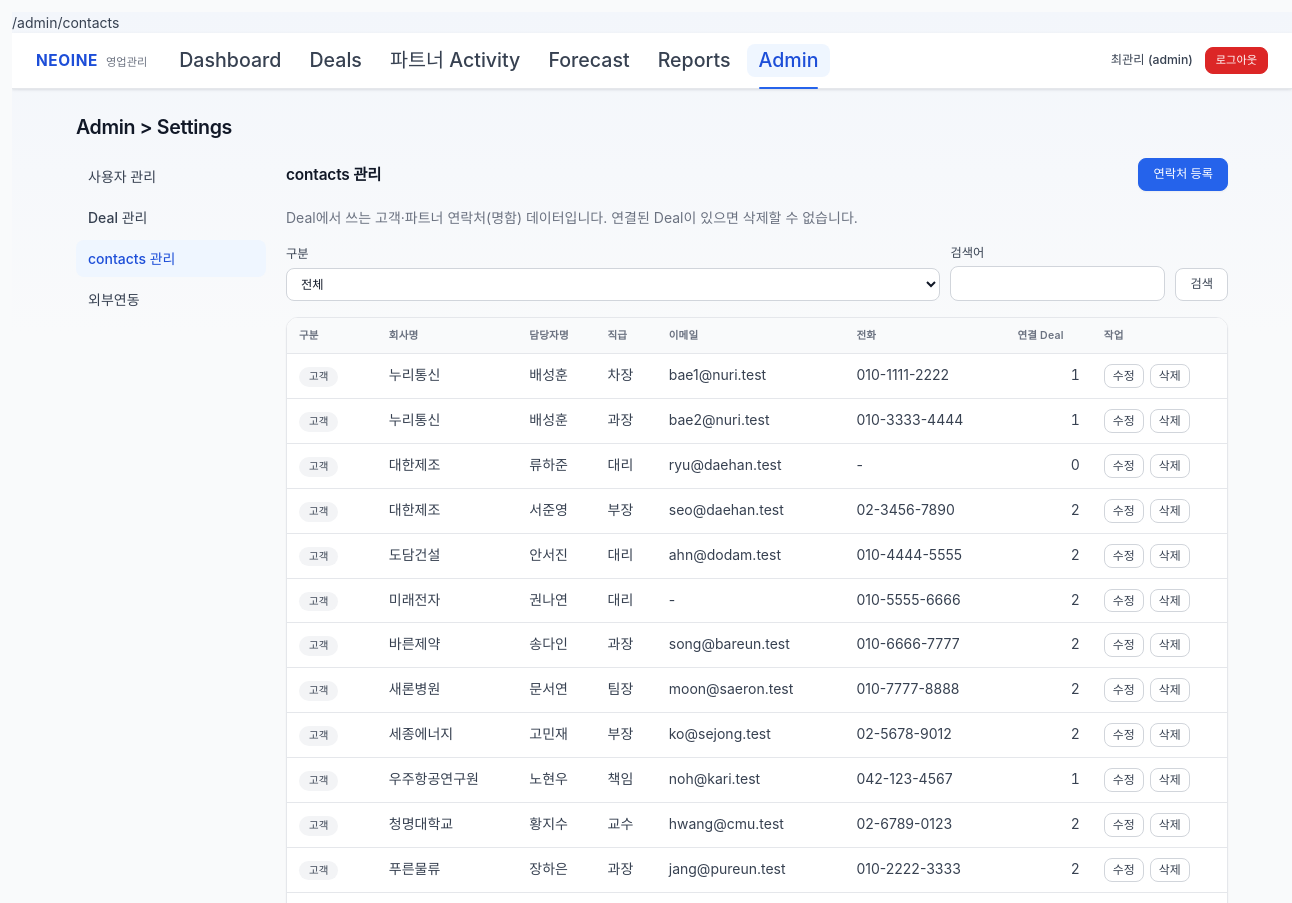
contacts 목록 (T-ADMIN-07) › filters by kind
Select "파트너" in the dropdown labelled "구분" at [613, 284], box [286,268,940,300]
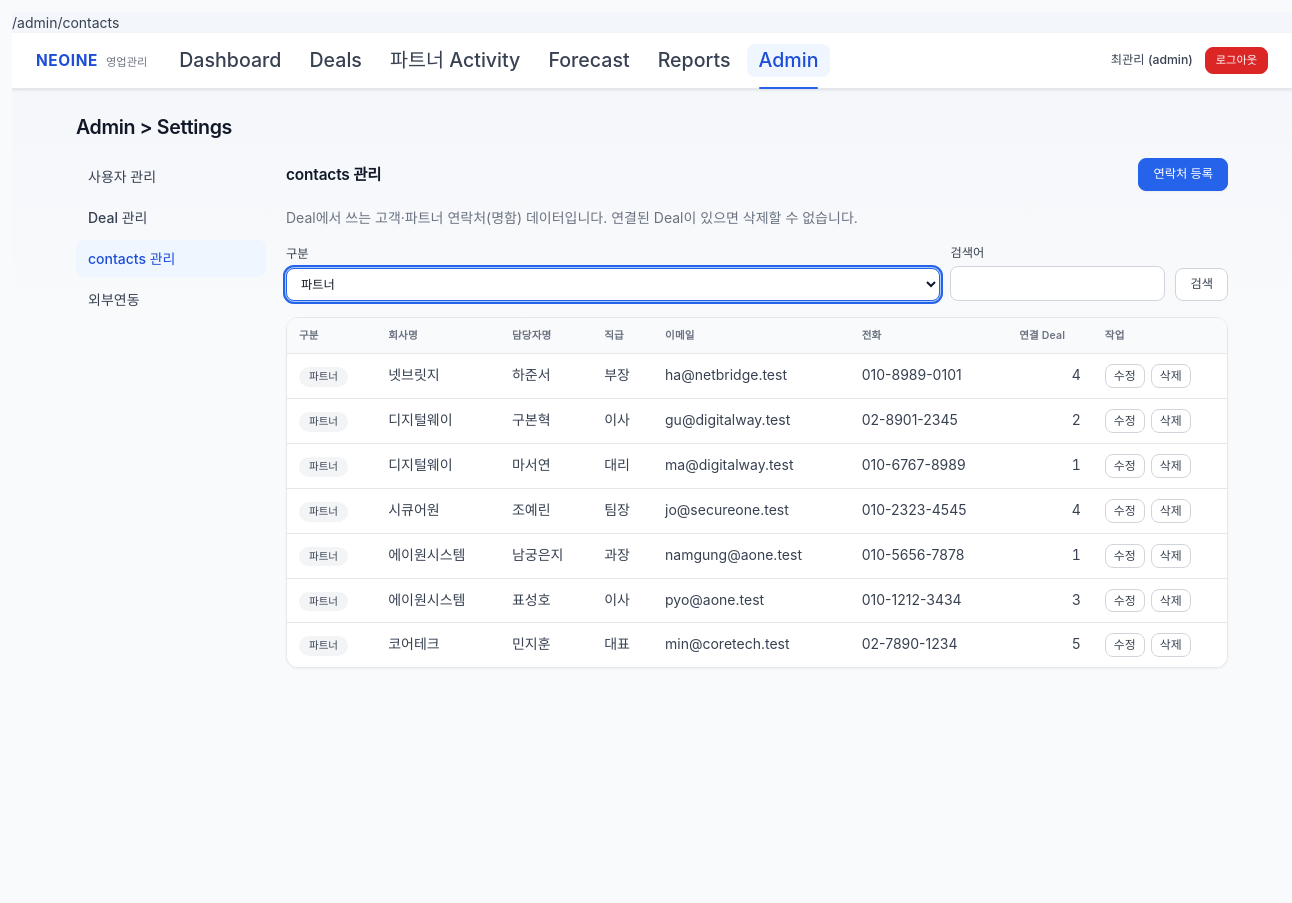
Check: the text "파트너" is shown 7 times
